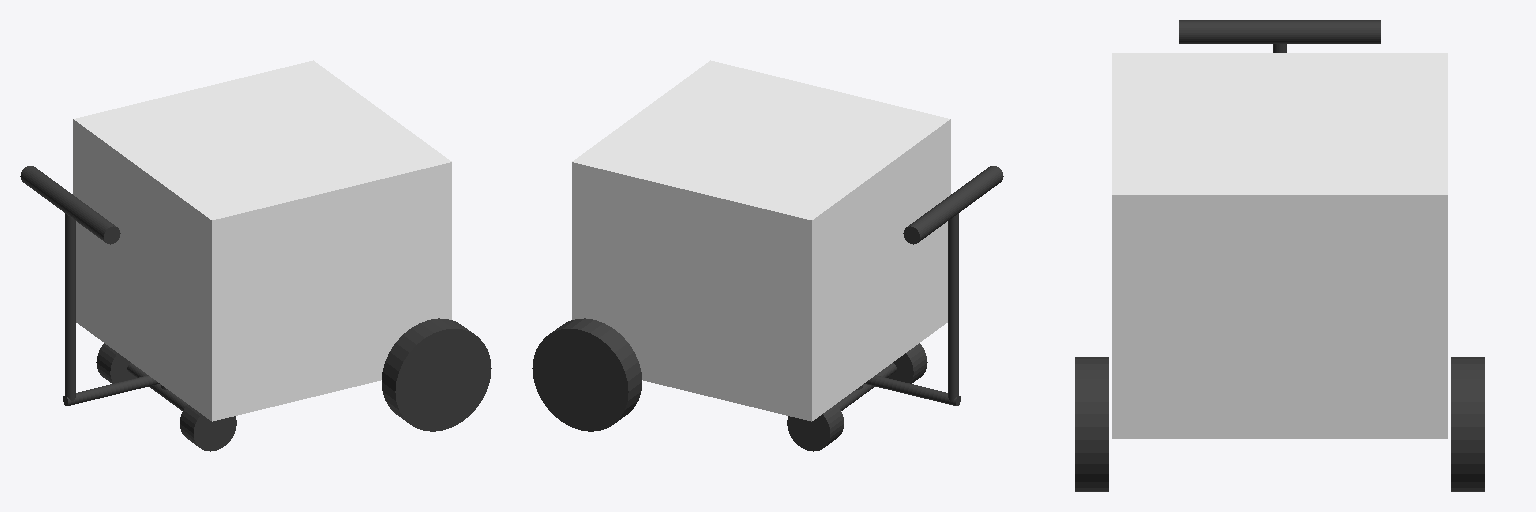
The robot description file, URDF, robot "pole_box":
<?xml version="1.0"?>
<robot name="pole_box">

  <link name="box">
    <contact>
      <lateral_friction value="0.5" />
      <rolling_friction value="0.0" />
      <contact_cfm value="0.0" />
      <contact_erp value="1.0" />
    </contact>
    <inertial>
      <origin rpy="0 0 0" xyz="0 0 0" />
      <mass value="30" />
    </inertial>
    <visual>
      <origin rpy="0 0 0" xyz="0 0 0" />
      <geometry>
        <box size="1.0 1.0 0.8" />
      </geometry>
      <material name="slider_mat">
        <color rgba="1.0 1.0 1.0 1" />
      </material>
    </visual>
    <collision>
      <origin rpy="0 0 0" xyz="0 0 0" />
      <geometry>
        <box size="1.0 1.0 0.8" />
      </geometry>
    </collision>
  </link>

  <!-- <link name="link_pole">
    <contact>
      <lateral_friction value="0.5"/>
      <rolling_friction
  value="0.0"/>
      <contact_cfm value="0.0"/>
      <contact_erp value="1.0"/>
    </contact>
  <inertial>
      <origin rpy="0 0 0" xyz="0 0 0"/>
        <mass value="1"/>
    </inertial>
  <visual>
        <origin rpy="0 0 0" xyz="0 0 0"/>
      <geometry>
        <cylinder length="0.3"
  radius="0.02"/>
      </geometry>
      <material name="slider_mat">
        <color rgba="0.3 0.3
  0.3 1"/>
      </material>
    </visual>
    <collision>
      <origin rpy="0 0 0" xyz="0 0 0"/>
  <geometry>
        <cylinder length="0.3" radius="0.02"/>
      </geometry>
    </collision>
  </link>
  <joint name="box_to_link_pole" type="fixed">
    <parent link="box"/>
    <child
  link="link_pole"/>
    <origin rpy="0 1.5708 0" xyz="-0.65 0 0.33"/>
  </joint> -->

  <link name="axis_pole">
    <contact>
      <lateral_friction value="0.5" />
      <rolling_friction value="0.0" />
      <contact_cfm value="0.0" />
      <contact_erp value="1.0" />
    </contact>
    <inertial>
      <origin rpy="0 0 0" xyz="0 0 0" />
      <mass value="1" />
    </inertial>
    <visual>
      <origin rpy="0 0 0" xyz="0 0 0" />
      <geometry>
        <!-- <box size="0.03 8 0.03"/> -->
        <cylinder length="0.088" radius="0.02" />
      </geometry>
      <material name="slider_mat">
        <color rgba="0.3 0.3 0.3 1" />
      </material>
    </visual>
    <collision>
      <origin rpy="0 0 0" xyz="0 0 0" />
      <geometry>
        <!-- <box size="0.03 8 0.03"/>-->
        <cylinder length="0.088" radius="0.02" />
      </geometry>
    </collision>
  </link>
  <joint name="box_to_axis_pole" type="continuous">
    <parent link="box" />
    <child link="axis_pole" />
    <origin rpy="0 0 0" xyz="-0.4 0 -0.445" />
    <axis xyz="0 0 1" />
  </joint>

  <link name="axis_link_pole">
    <contact>
      <lateral_friction value="0.5" />
      <rolling_friction value="0.0" />
      <contact_cfm value="0.0" />
      <contact_erp value="1.0" />
    </contact>
    <inertial>
      <origin rpy="0 0 0" xyz="0 0 0" />
      <mass value="1" />
    </inertial>
    <visual>
      <origin rpy="0 0 0" xyz="0 0 0" />
      <geometry>
        <cylinder length="0.44" radius="0.02" />
      </geometry>
      <material name="slider_mat">
        <color rgba="0.3 0.3 0.3 1" />
      </material>
    </visual>
    <collision>
      <origin rpy="0 0 0" xyz="0 0 0" />
      <geometry>
        <cylinder length="0.44" radius="0.02" />
      </geometry>
    </collision>
  </link>
  <joint name="axis_pole_to_axis_link_pole" type="fixed">
    <parent link="axis_pole" />
    <child link="axis_link_pole" />
    <origin rpy="0 1.5708 0" xyz="-0.2 0 0" />
  </joint>

  <link name="axis_link_pole2">
    <contact>
      <lateral_friction value="0.5" />
      <rolling_friction value="0.0" />
      <contact_cfm value="0.0" />
      <contact_erp value="1.0" />
    </contact>
    <inertial>
      <origin rpy="0 0 0" xyz="0 0 0" />
      <mass value="1" />
    </inertial>
    <visual>
      <origin rpy="0 0 0" xyz="0 0 0" />
      <geometry>
        <cylinder length="0.775" radius="0.02" />
      </geometry>
      <material name="slider_mat">
        <color rgba="0.3 0.3 0.3 1" />
      </material>
    </visual>
    <collision>
      <origin rpy="0 0 0" xyz="0 0 0" />
      <geometry>
        <cylinder length="0.775" radius="0.02" />
      </geometry>
    </collision>
  </link>
  <!-- <joint name="axis_linke_pole_to_axis_link_pole2" type="fixed">
    <parent
  link="axis_link_pole"/>
    <child link="axis_link_pole2"/>
    <origin rpy="0 1.5708 0"
  xyz="-0.3875 0 -0.2"/>
  </joint> -->
  <joint name="axis_linke_pole_to_axis_link_pole2" type="continuous">
    <parent link="axis_link_pole" />
    <child link="axis_link_pole2" />
    <origin rpy="0 1.5708 0" xyz="-0.3875 0 -0.2" />
    <axis xyz="0 0 1" />
  </joint>

  <link name="handle_pole">
    <contact>
      <lateral_friction value="0.5" />
      <rolling_friction value="0.0" />
      <contact_cfm value="0.0" />
      <contact_erp value="1.0" />
    </contact>
    <inertial>
      <origin rpy="0 0 0" xyz="0 0 0" />
      <mass value="1" />
    </inertial>
    <visual>
      <origin rpy="0 0 0" xyz="0 0 0" />
      <geometry>
        <!-- <box size="0.03 8 0.03"/> -->
        <cylinder length="0.6" radius="0.035" />
      </geometry>
      <material name="slider_mat">
        <color rgba="0.3 0.3 0.3 1" />
      </material>
    </visual>
    <collision>
      <origin rpy="0 0 0" xyz="0 0 0" />
      <geometry>
        <!-- <box size="0.03 8 0.03"/>-->
        <cylinder length="0.6" radius="0.037" />
      </geometry>
    </collision>
  </link>
  <!-- <joint name="axis_link_pole2_to_handle_pole" type="fixed">
    <parent
  link="axis_link_pole2"/>
    <child link="handle_pole"/>
    <origin rpy="1.5708 0 0" xyz="0 0
  -0.3875"/>
  </joint> -->
  <joint name="axis_link_pole2_to_handle_pole" type="continuous">
    <parent link="axis_link_pole2" />
    <child link="handle_pole" />
    <origin rpy="1.5708 0 0" xyz="0 0 -0.3875" />
    <axis xyz="1 0 0" />
  </joint>

  <link name="coupling_pole">
    <contact>
      <lateral_friction value="0.5" />
      <rolling_friction value="0.0" />
      <contact_cfm value="0.0" />
      <contact_erp value="1.0" />
    </contact>
    <inertial>
      <origin rpy="0 0 0" xyz="0 0 0" />
      <mass value="1" />
    </inertial>
    <visual>
      <origin rpy="0 0 0" xyz="0 0 0" />
      <geometry>
        <!-- <box size="0.03 8 0.03"/> -->
        <cylinder length="0.6" radius="0.02" />
      </geometry>
      <material name="slider_mat">
        <color rgba="0.3 0.3 0.3 1" />
      </material>
    </visual>
    <collision>
      <origin rpy="0 0 0" xyz="0 0 0" />
      <geometry>
        <!-- <box size="0.03 8 0.03"/>-->
        <cylinder length="0.6" radius="0.02" />
      </geometry>
    </collision>
  </link>
  <joint name="axis_pole_to_coupling_pole" type="continuous">
    <parent link="axis_pole" />
    <child link="coupling_pole" />
    <origin rpy="1.5708 0 0" xyz="0 0 -0.065" />
    <axis xyz="0 0 1" />
  </joint>

  <link name="right_front_wheel">
    <inertial>
      <origin rpy="0 0 0" xyz="0 0 0" />
      <mass value="5" />
    </inertial>
    <visual>
      <origin rpy="0 0 0" xyz="0 0 0" />
      <geometry>
        <!-- <box size="0.03 8 0.03"/> -->
        <cylinder length="0.1" radius="0.09" />
      </geometry>
      <material name="slider_mat">
        <color rgba="0.3 0.3 0.3 1" />
      </material>
    </visual>
    <collision>
      <origin rpy="0 0 0" xyz="0 0 0" />
      <geometry>
        <!-- <box size="0.03 8 0.03"/>-->
        <cylinder length="0.1" radius="0.09" />
      </geometry>
    </collision>
  </link>
  <joint name="coupling_pole_to_right_front_wheel" type="fixed">
    <parent link="coupling_pole" />
    <child link="right_front_wheel" />
    <origin rpy="0 0 0" xyz="0 0 -0.3" />
  </joint>

  <link name="right_rear_wheel">
    <inertial>
      <origin rpy="0 0 0" xyz="0 0 0" />
      <mass value="5" />
    </inertial>
    <visual>
      <origin rpy="0 0 0" xyz="0 0 0" />
      <geometry>
        <!-- <box size="0.03 8 0.03"/> -->
        <cylinder length="0.1" radius="0.2" />
      </geometry>
      <material name="slider_mat">
        <color rgba="0.3 0.3 0.3 1" />
      </material>
    </visual>
    <collision>
      <origin rpy="0 0 0" xyz="0 0 0" />
      <geometry>
        <!-- <box size="0.03 8 0.03"/>-->
        <cylinder length="0.1" radius="0.2" />
      </geometry>
    </collision>
  </link>
  <joint name="box_to_right_rear_wheel" type="continuous">
    <parent link="box" />
    <child link="right_rear_wheel" />
    <origin rpy="1.5708 0 0" xyz="0.4 0.56 -0.4" />
    <axis xyz="0 0 1" />
  </joint>

  <link name="left_front_wheel">
    <inertial>
      <origin rpy="0 0 0" xyz="0 0 0" />
      <mass value="5" />
    </inertial>
    <visual>
      <origin rpy="0 0 0" xyz="0 0 0" />
      <geometry>
        <!-- <box size="0.03 8 0.03"/> -->
        <cylinder length="0.1" radius="0.09" />
      </geometry>
      <material name="slider_mat">
        <color rgba="0.3 0.3 0.3 1" />
      </material>
    </visual>
    <collision>
      <origin rpy="0 0 0" xyz="0 0 0" />
      <geometry>
        <!-- <box size="0.03 8 0.03"/>-->
        <cylinder length="0.1" radius="0.09" />
      </geometry>
    </collision>
  </link>
  <joint name="coupling_pole_to_left_front_wheel" type="fixed">
    <parent link="coupling_pole" />
    <child link="left_front_wheel" />
    <origin rpy="0 0 0" xyz="0 0 0.3" />
  </joint>

  <link name="left_rear_wheel">
    <inertial>
      <origin rpy="0 0 0" xyz="0 0 0" />
      <mass value="5" />
    </inertial>
    <visual>
      <origin rpy="0 0 0" xyz="0 0 0" />
      <geometry>
        <!-- <box size="0.03 8 0.03"/> -->
        <cylinder length="0.1" radius="0.2" />
      </geometry>
      <material name="slider_mat">
        <color rgba="0.3 0.3 0.3 1" />
      </material>
    </visual>
    <collision>
      <origin rpy="0 0 0" xyz="0 0 0" />
      <geometry>
        <!-- <box size="0.03 8 0.03"/>-->
        <cylinder length="0.1" radius="0.2" />
      </geometry>
    </collision>
  </link>
  <joint name="box_to_left_rear_wheel" type="continuous">
    <parent link="box" />
    <child link="left_rear_wheel" />
    <origin rpy="1.5708 0 0" xyz="0.4 -0.56 -0.4" />
    <axis xyz="0 0 1" />
  </joint>


</robot>

--- What the picture shows (computed from the rendered views, not written in the file) ---
3 views of the same robot in one strip: view 1: azimuth 30°, elevation 25°; view 2: azimuth 150°, elevation 25°; view 3: azimuth 270°, elevation 25° (orthographic).
Robot: pole_box — 10 links, 9 joints (6 continuous, 3 fixed); root link box; default pose: every joint at zero.
Links seen in each view (by area): view 1: box, left_rear_wheel, handle_pole, axis_link_pole2, left_front_wheel, axis_link_pole, right_front_wheel; view 2: box, right_rear_wheel, handle_pole, axis_link_pole2, right_front_wheel, axis_link_pole, left_front_wheel; view 3: box, handle_pole, right_rear_wheel, left_rear_wheel.
Boxes of the visible links, bbox=[...] form: box: bbox=[73, 60, 451, 421]; left_rear_wheel: bbox=[382, 318, 491, 431]; handle_pole: bbox=[20, 166, 120, 244]; axis_link_pole2: bbox=[65, 213, 75, 401]; left_front_wheel: bbox=[180, 404, 236, 451]; axis_link_pole: bbox=[63, 375, 159, 405]; right_front_wheel: bbox=[96, 343, 135, 383]; box: bbox=[572, 60, 950, 421]; right_rear_wheel: bbox=[532, 318, 641, 431]; handle_pole: bbox=[903, 166, 1003, 244]; axis_link_pole2: bbox=[948, 213, 958, 401]; right_front_wheel: bbox=[787, 404, 843, 451]; axis_link_pole: bbox=[864, 375, 960, 405]; left_front_wheel: bbox=[888, 343, 927, 383]; box: bbox=[1112, 53, 1447, 438]; handle_pole: bbox=[1179, 20, 1380, 43]; right_rear_wheel: bbox=[1451, 357, 1484, 491]; left_rear_wheel: bbox=[1075, 357, 1108, 491].
Bounding box of the posed robot: 1.44 × 1.22 × 1 m (x, y, z).
Geometry: primitives only (box / cylinder / sphere), no mesh files.